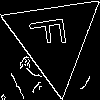F: (29, 13, 75, 50)
